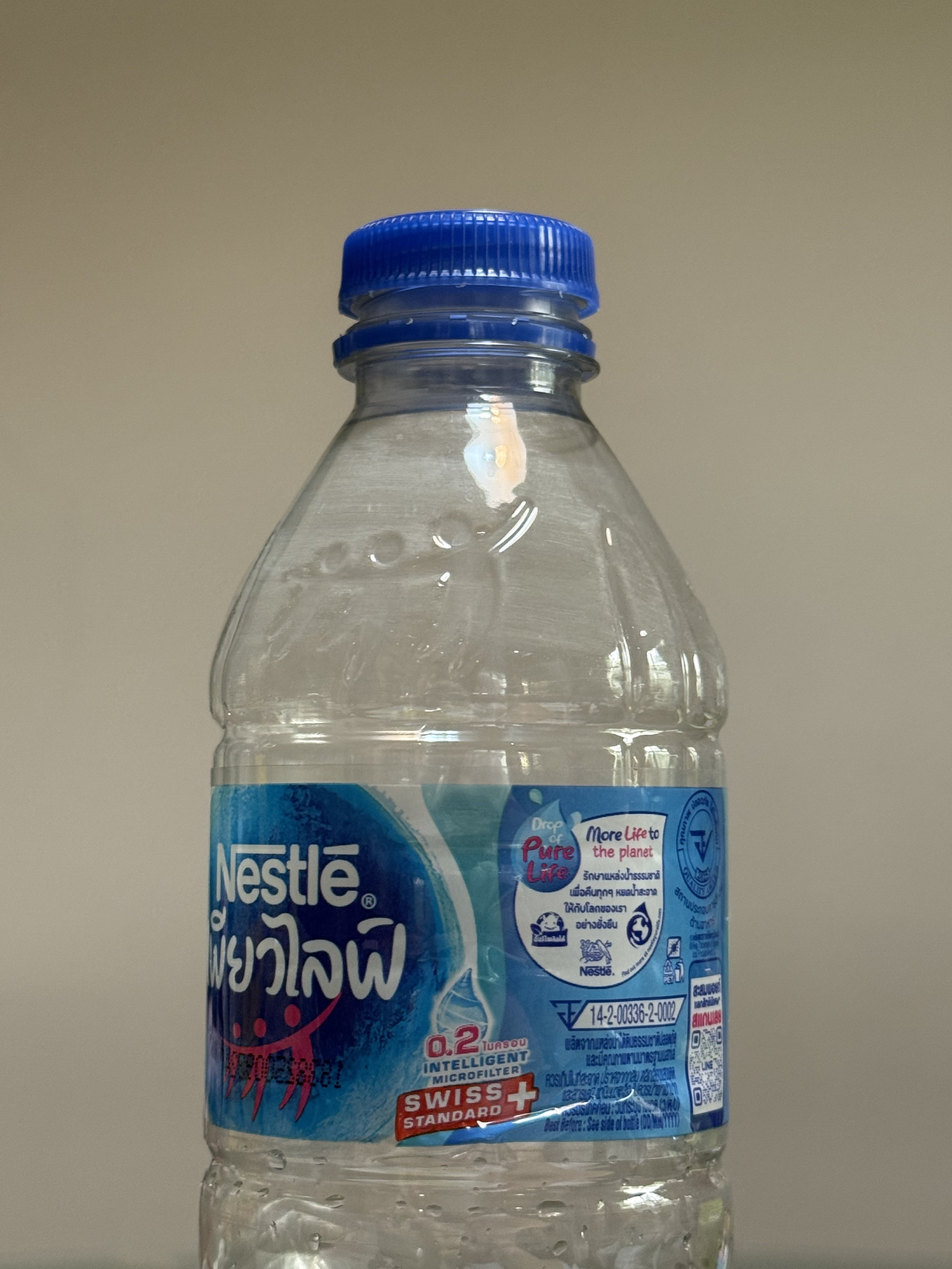half_cap: (326, 202, 606, 376)
